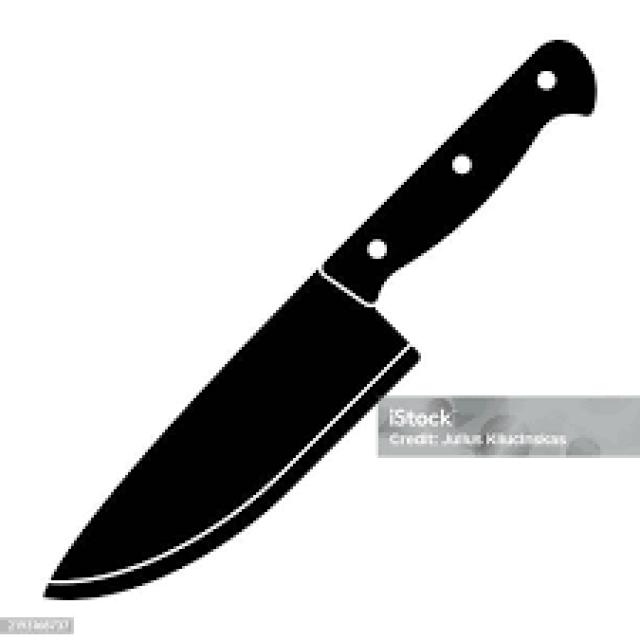Knife: (43, 37, 597, 600)
